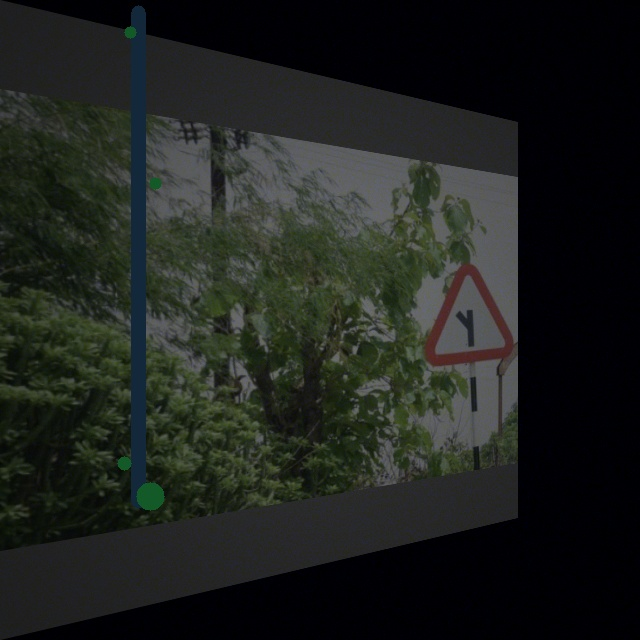Y_Intersection: (425, 262, 510, 365)
